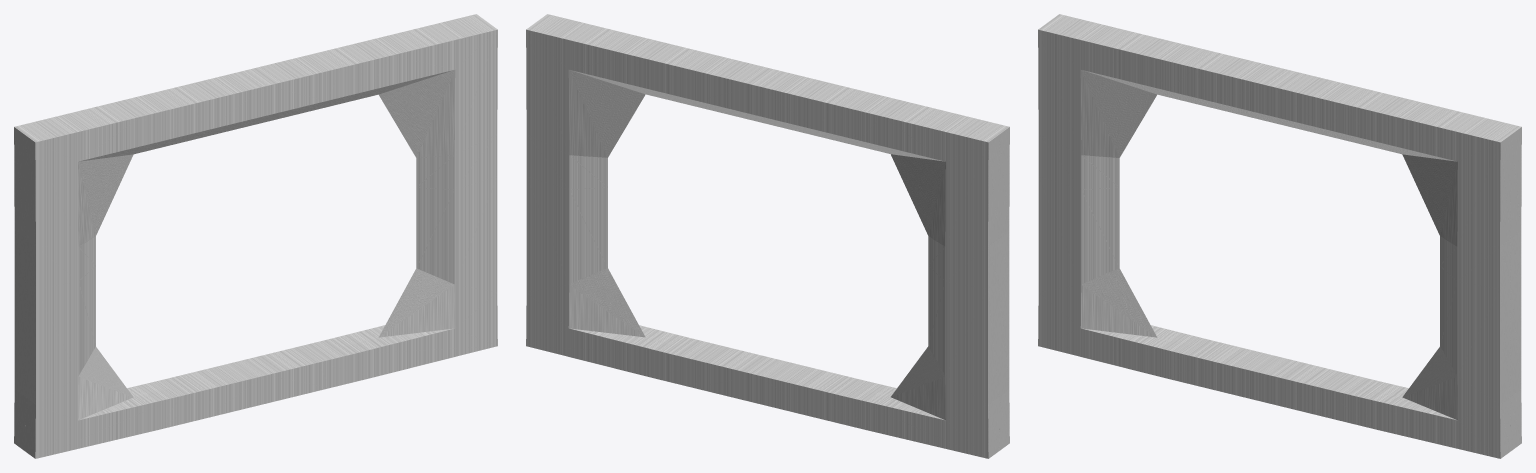
The model's file is Door_Pannel.FBX.
3 renders of one model, left to right at view 1: azimuth 30°, elevation 25°; view 2: azimuth 150°, elevation 25°; view 3: azimuth 330°, elevation 25°, orthographic.
Parts seen in each view (by area): view 1: Door_Pannel; view 2: Door_Pannel; view 3: Door_Pannel.
Boxes of the visible parts, left/top/right/bottom form: Door_Pannel: left=14, top=14, right=497, bottom=458; Door_Pannel: left=526, top=14, right=1009, bottom=458; Door_Pannel: left=1038, top=14, right=1521, bottom=458.
Bounding box in the file's own units: 858 × 563 × 68.53.
1 material, 1 textured.
